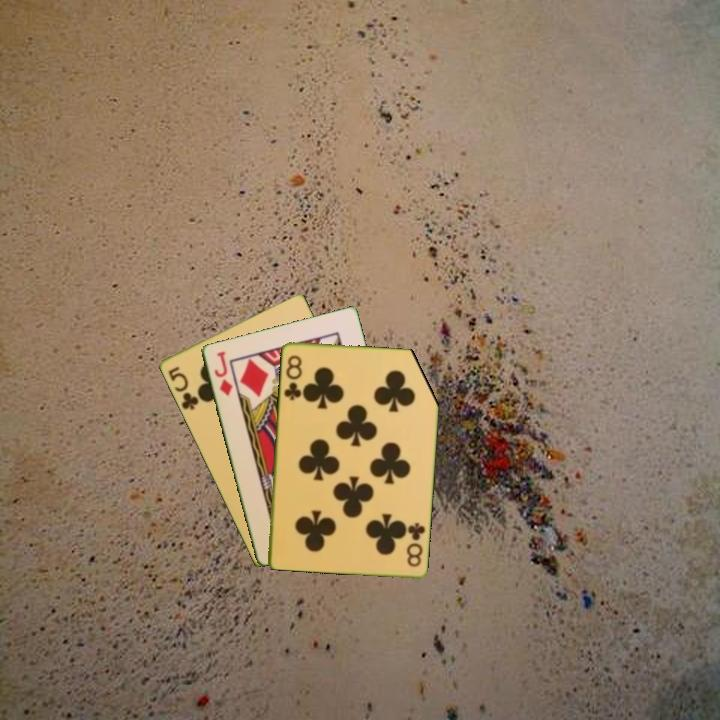5c: (164, 363, 203, 413)
8c: (280, 351, 305, 403), (403, 519, 427, 569)
Jd: (210, 347, 235, 399)
